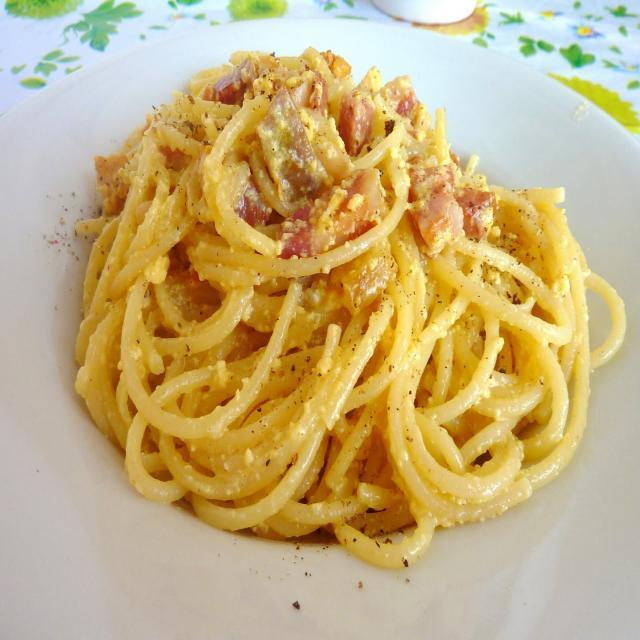Pasta with carbonara sauce: (43, 45, 605, 571)
